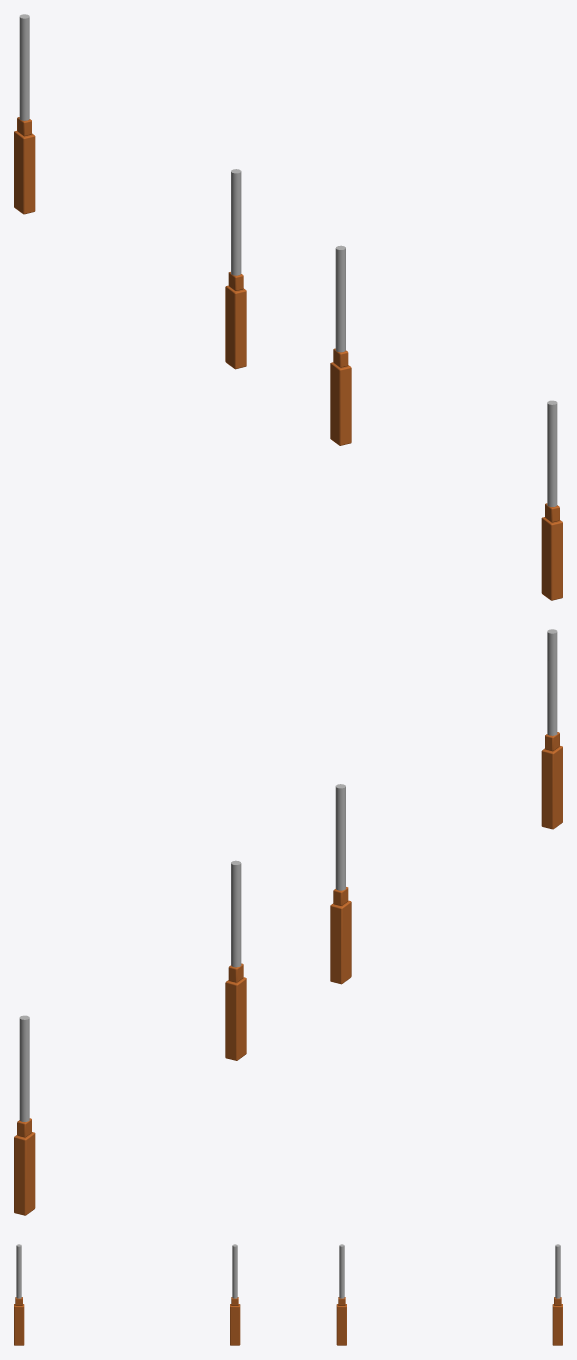
File: stacker_course_divider.glb
3 renders of one model, top to bottom at view 1: azimuth 30°, elevation 25°; view 2: azimuth 150°, elevation 25°; view 3: azimuth 270°, elevation 25°, orthographic. The views are drawn at different scales.
Visible parts, largest first — view 1: CourseDivider, CourseDividerRods; view 2: CourseDivider, CourseDividerRods; view 3: CourseDivider, CourseDividerRods.
Boxes of the visible parts, box(x1,y1,x2,y2) form: CourseDivider: box(14, 117, 562, 600); CourseDividerRods: box(19, 14, 557, 506); CourseDivider: box(14, 732, 562, 1215); CourseDividerRods: box(19, 629, 557, 1121); CourseDivider: box(14, 1297, 562, 1345); CourseDividerRods: box(16, 1244, 560, 1298).
Bounding box in the file's own units: 0.035 × 0.53 × 2.67.
